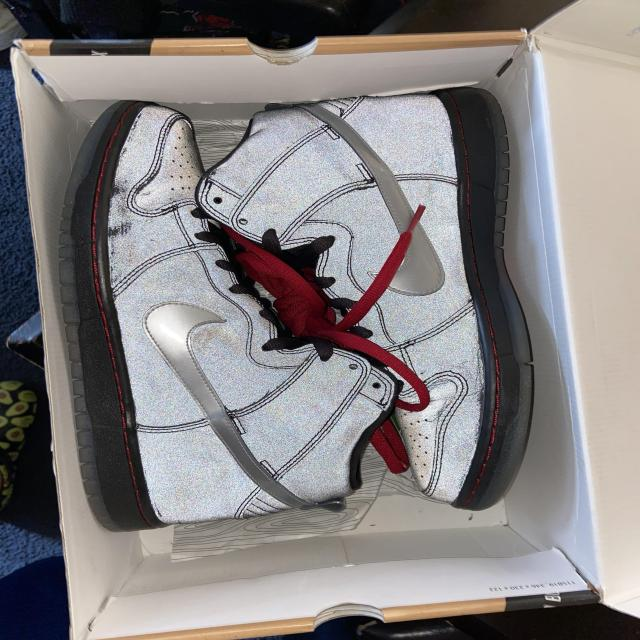shoe: (49, 86, 408, 552), (189, 75, 540, 518)
